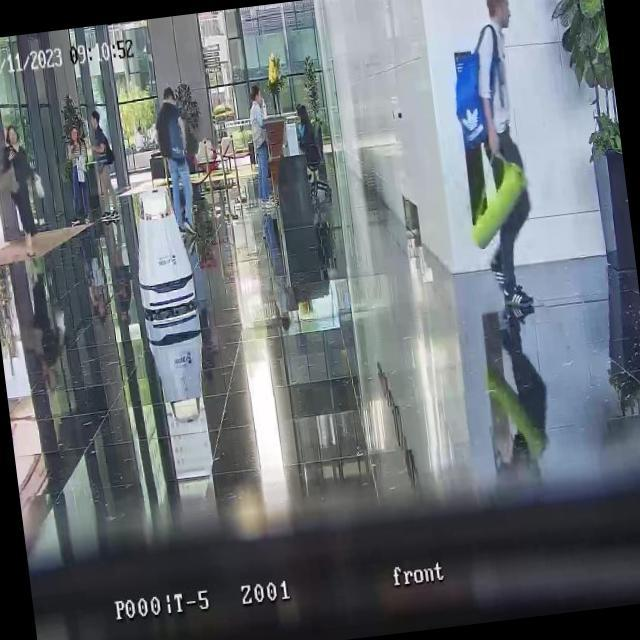person: (445, 0, 548, 314), (150, 83, 199, 236), (1, 122, 42, 240), (243, 82, 277, 206), (86, 107, 120, 216), (64, 121, 95, 223), (292, 102, 320, 170)
